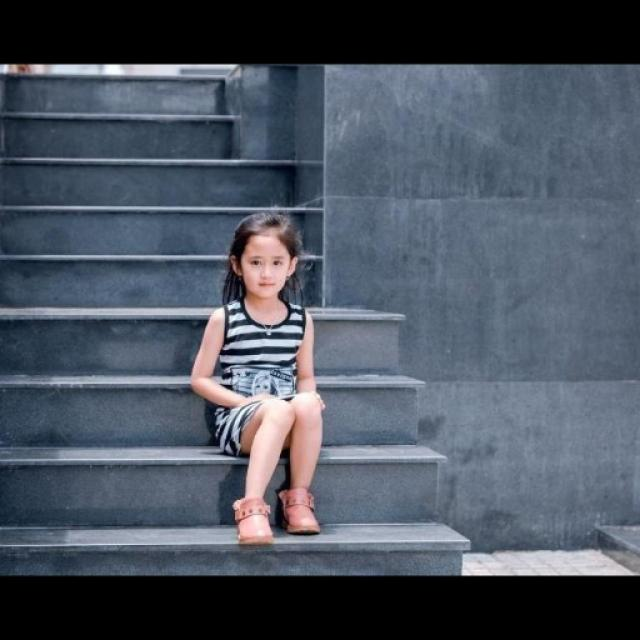stair: (0, 65, 469, 574)
